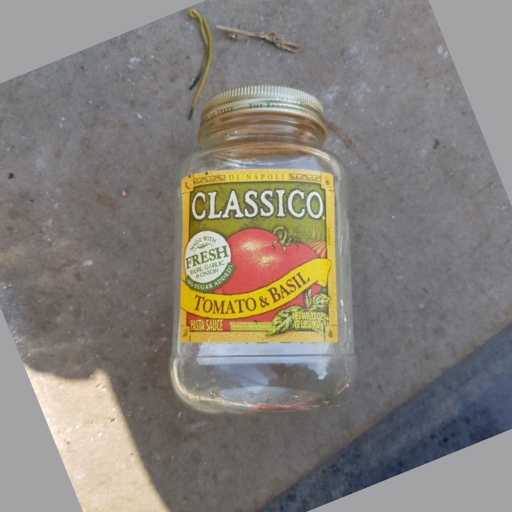Glass_5: (166, 82, 358, 417)
